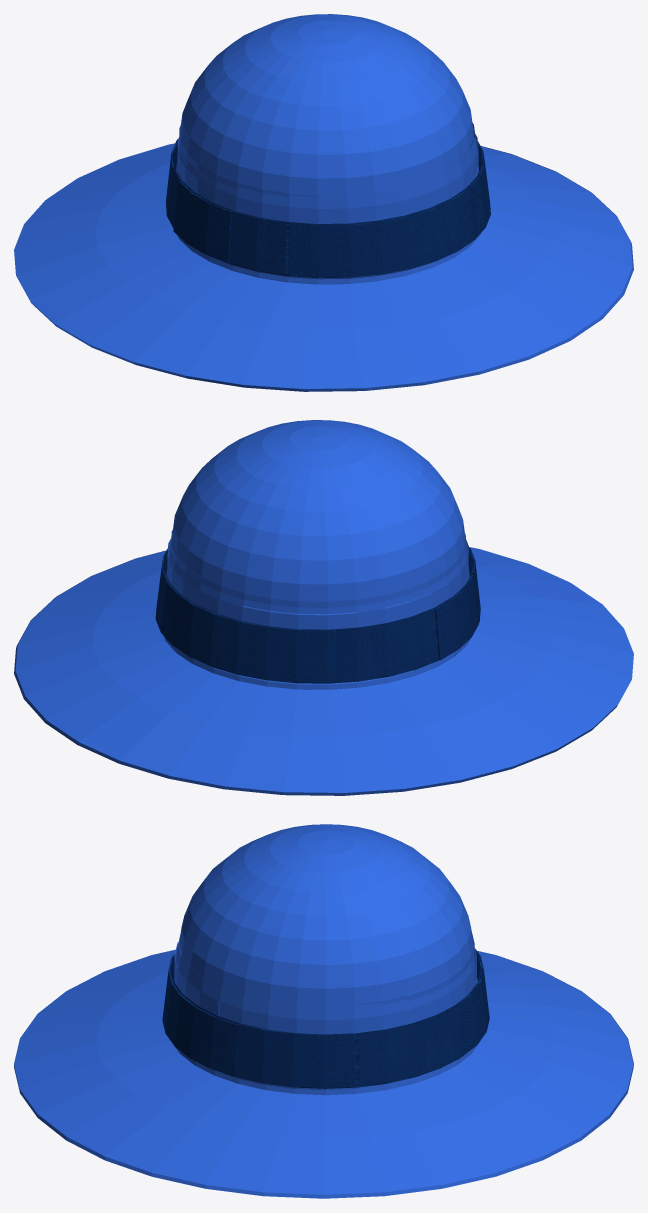
Rendered from hat.fbx.
3 views of the same model, one above another, from view 1: azimuth 30°, elevation 25°; view 2: azimuth 150°, elevation 25°; view 3: azimuth 270°, elevation 25° (orthographic).
Visible parts, largest first — view 1: sombrero, liston; view 2: sombrero, liston; view 3: sombrero, liston.
Part boxes in pixels (left/top/right/bottom): sombrero: left=14, top=14, right=633, bottom=391; liston: left=165, top=139, right=490, bottom=278; sombrero: left=14, top=420, right=633, bottom=795; liston: left=155, top=547, right=480, bottom=683; sombrero: left=14, top=824, right=633, bottom=1198; liston: left=162, top=948, right=489, bottom=1088.
Size of the model in its own units: 433 by 176 by 432.
